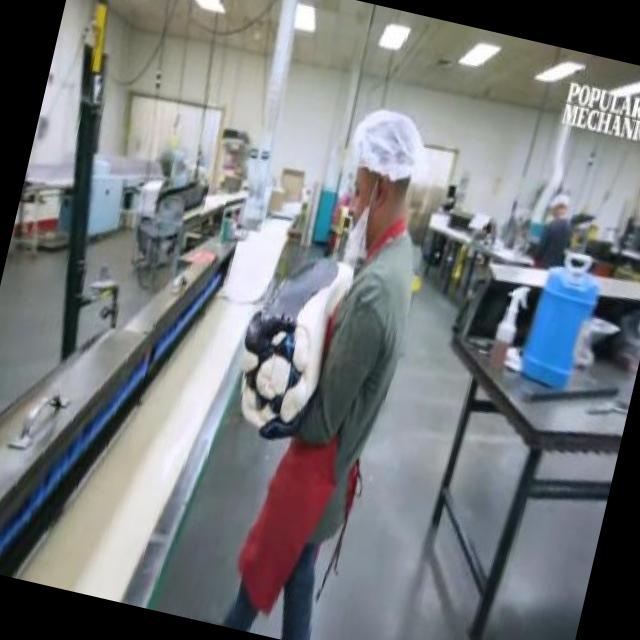hairnet: (346, 100, 432, 184)
